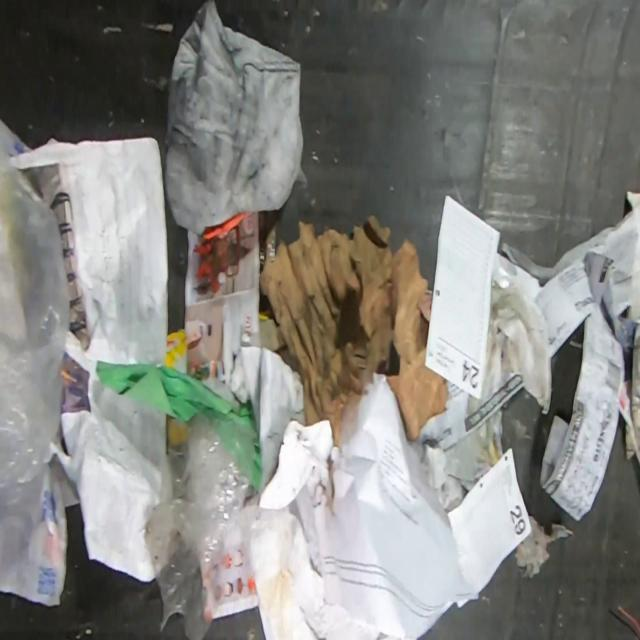soft_plastic: (0, 148, 71, 582), (144, 406, 254, 638)
